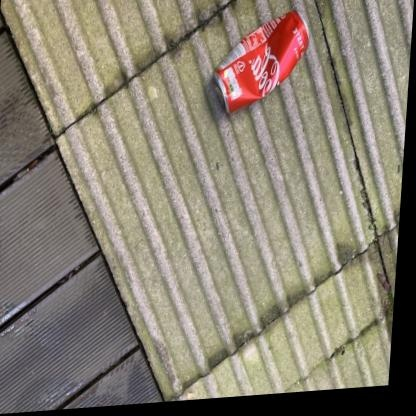trash: (213, 10, 308, 111)
